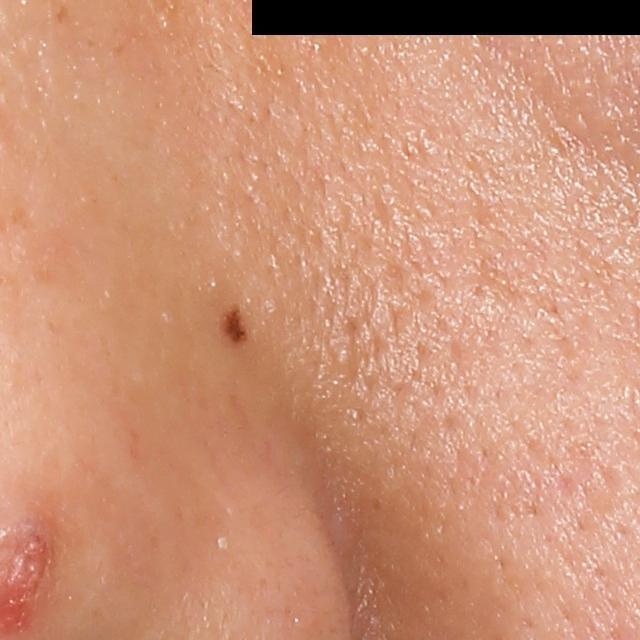nevus: (216, 300, 253, 350)
